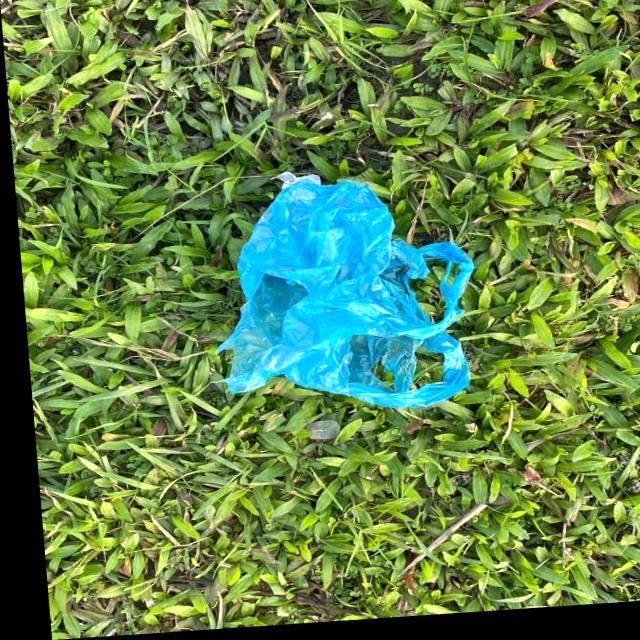polythene: (186, 161, 490, 431)
